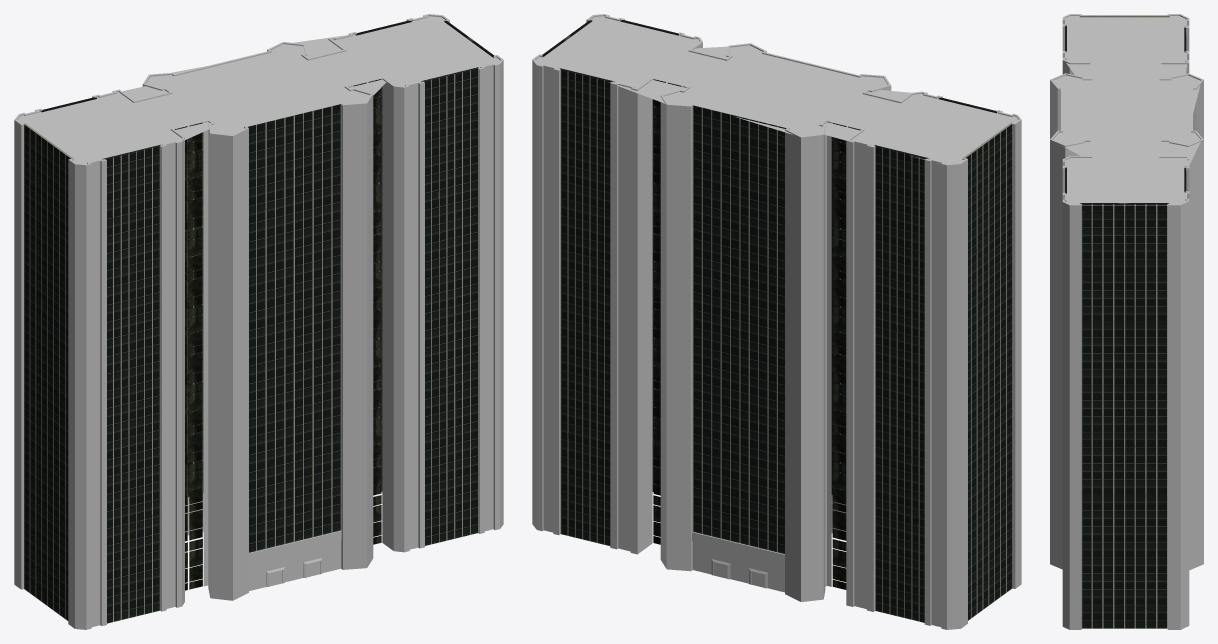
3 renders of one model, left to right at view 1: azimuth 30°, elevation 25°; view 2: azimuth 150°, elevation 25°; view 3: azimuth 270°, elevation 25°, orthographic. The views are drawn at different scales.
Visible parts, largest first — view 1: BC-077; view 2: BC-077; view 3: BC-077.
Part boxes in pixels (bbox=[...]): BC-077: bbox=[14, 14, 503, 629]; BC-077: bbox=[532, 14, 1021, 629]; BC-077: bbox=[1050, 14, 1203, 629].
Size of what is drawn, in the model's own units: 84.67 by 87.68 by 28.78.
